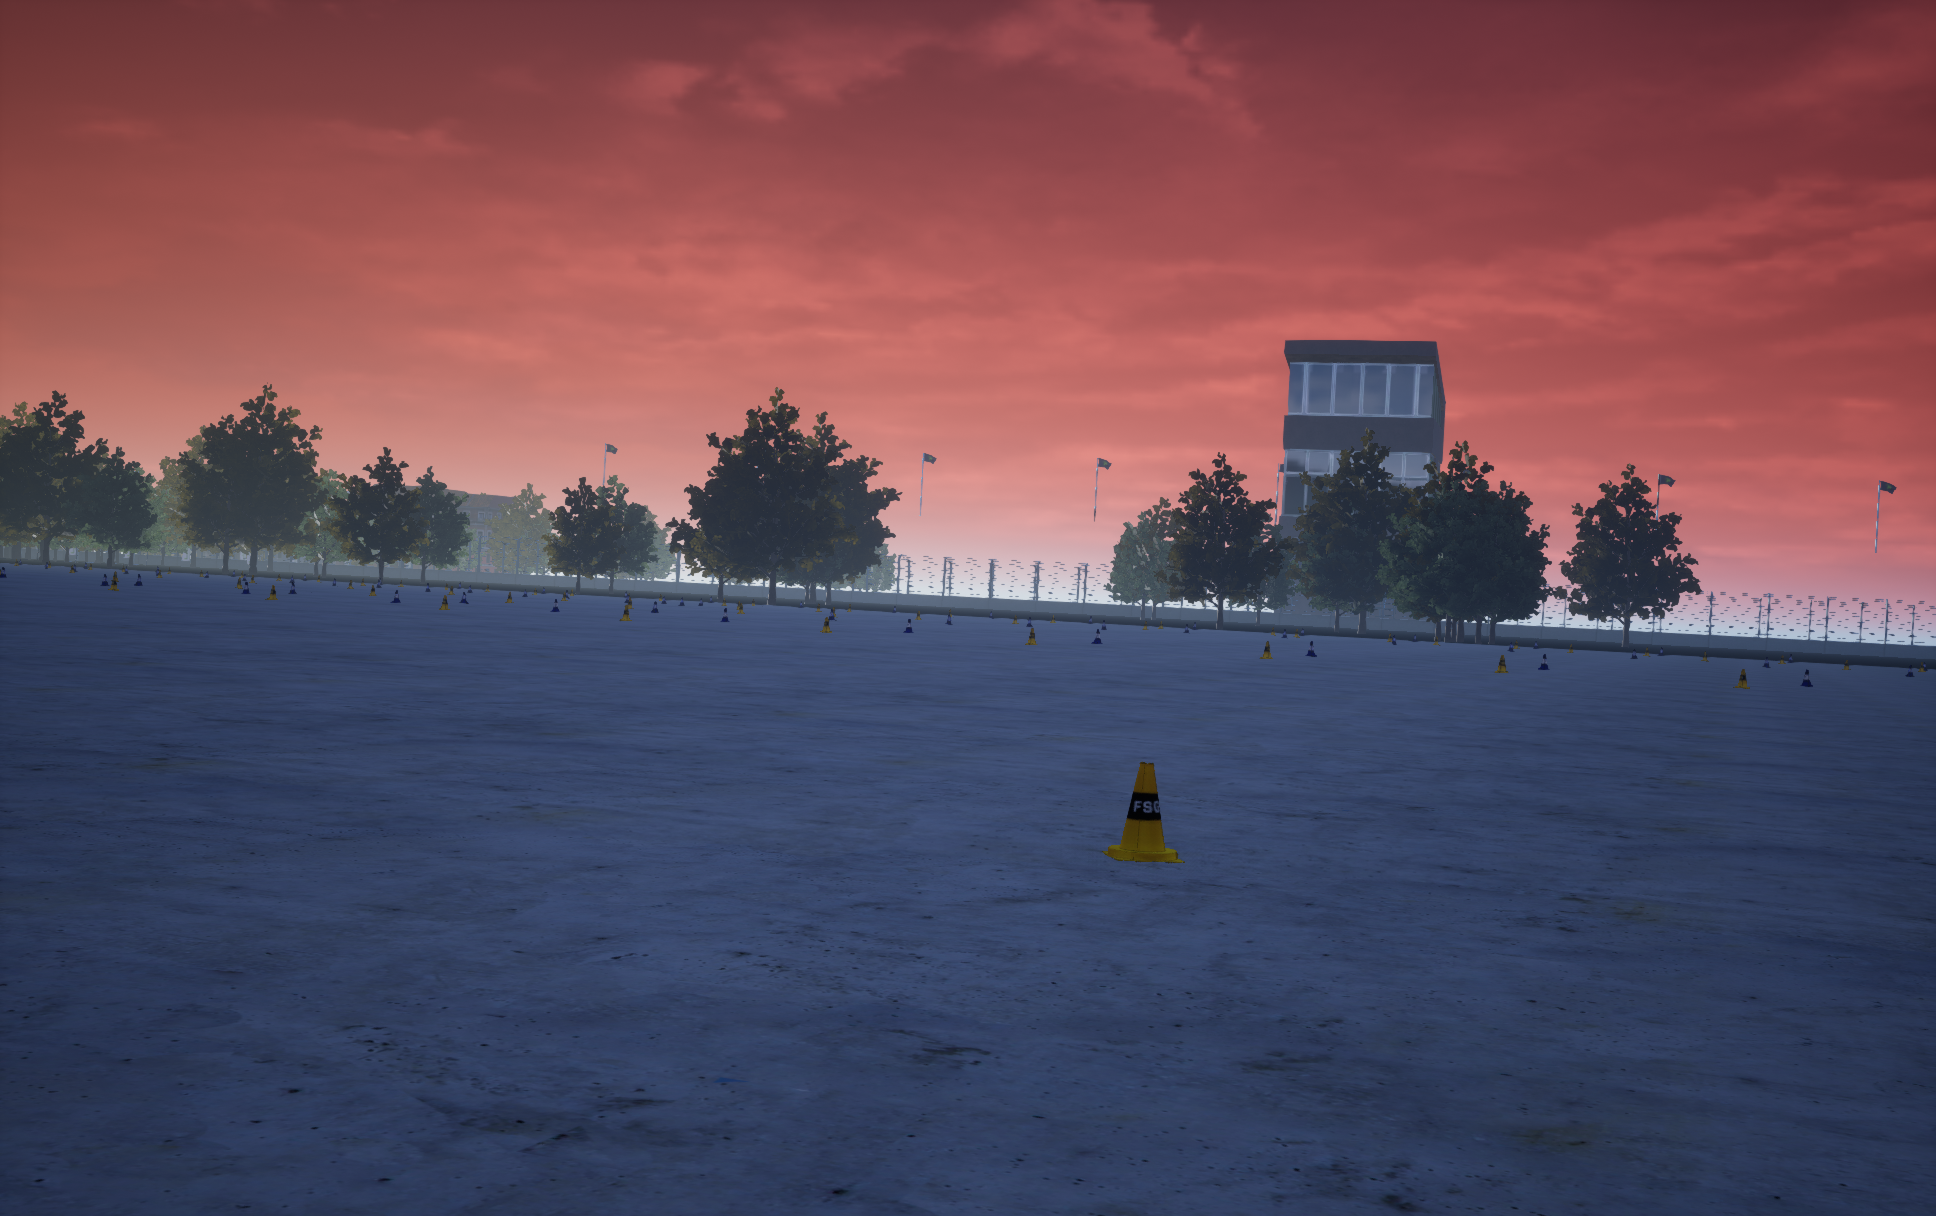blue: (1102, 762, 1184, 862), (1733, 670, 1750, 688)
